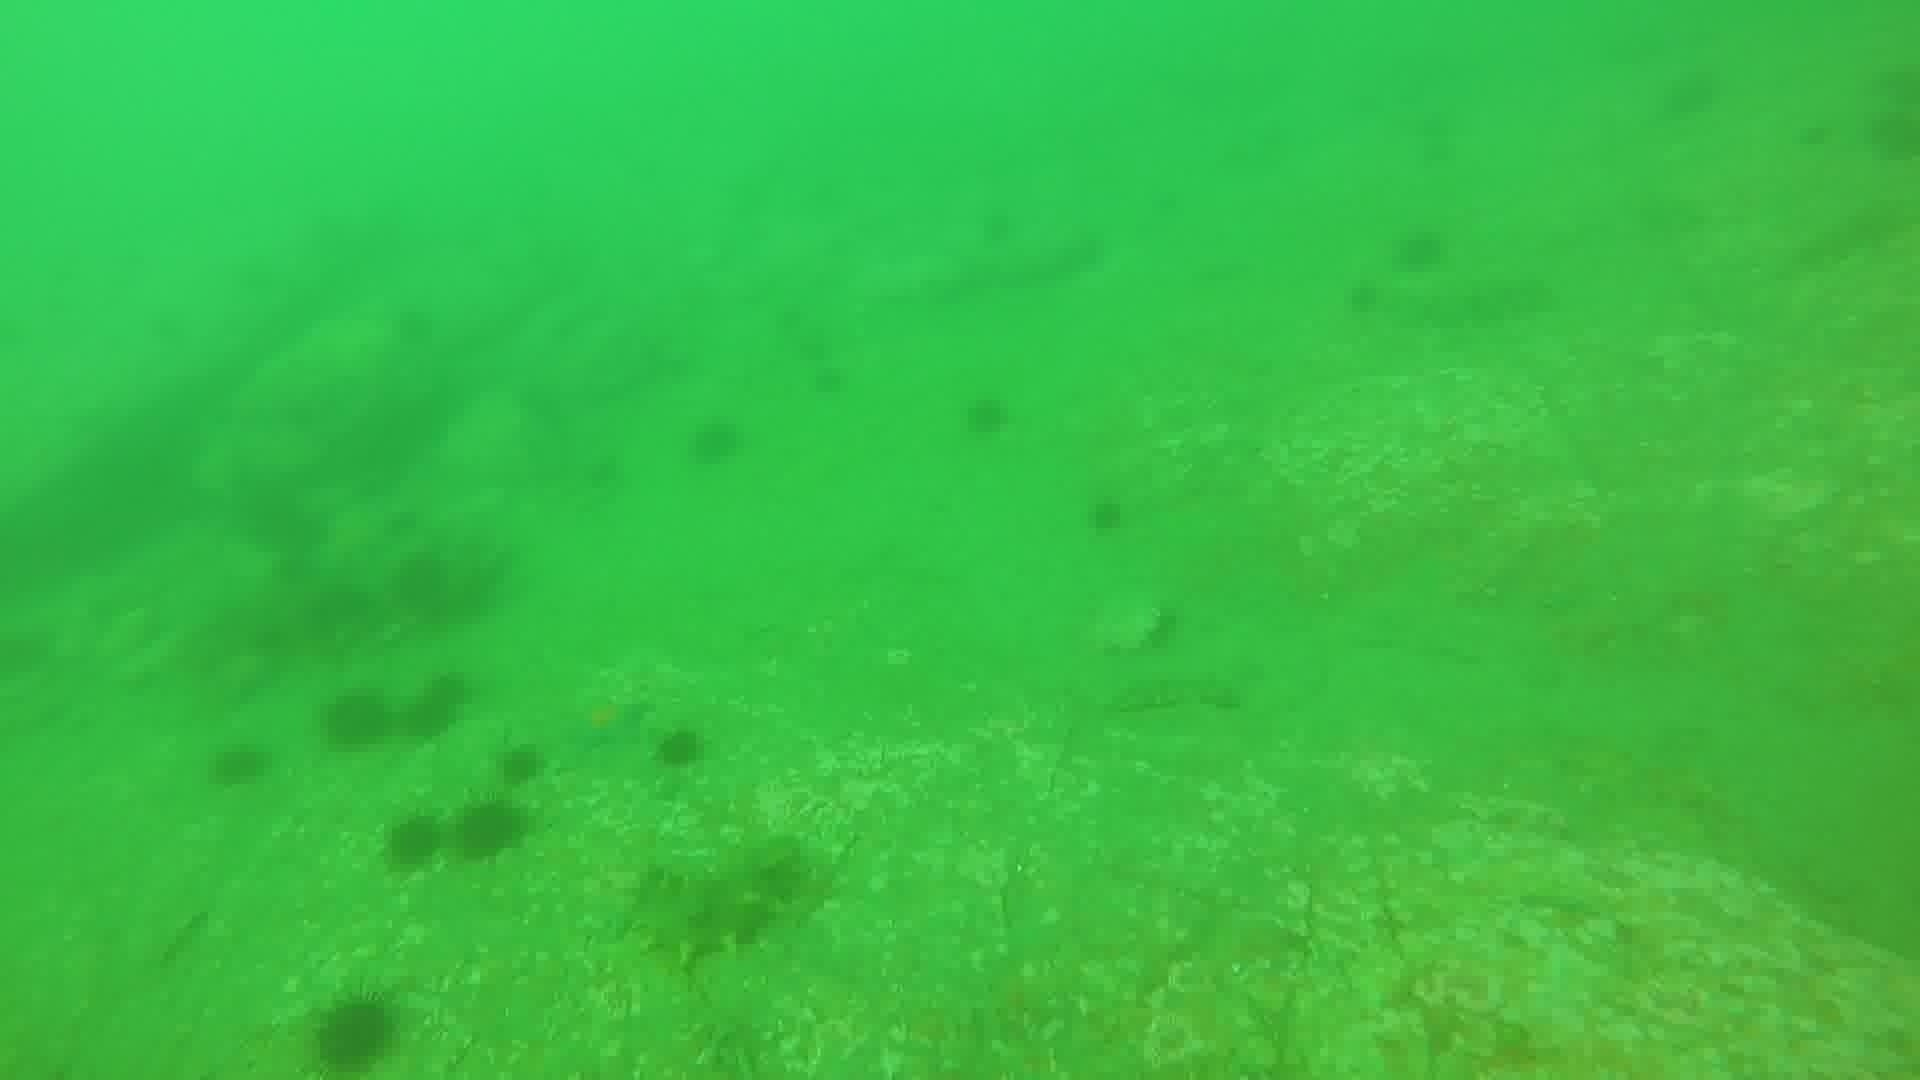echinus: (309, 990, 404, 1071), (316, 684, 396, 756), (447, 789, 526, 858), (378, 808, 447, 877), (1654, 62, 1726, 124), (392, 553, 460, 613), (204, 736, 276, 793), (305, 574, 372, 633), (683, 413, 748, 471), (1389, 223, 1452, 277), (650, 721, 709, 774), (957, 390, 1015, 442), (492, 738, 549, 790), (430, 669, 483, 713), (400, 699, 451, 744), (1083, 491, 1130, 538), (806, 360, 852, 401), (1342, 276, 1383, 319)
holothurian: (625, 832, 810, 968)
starfish: (558, 683, 651, 756)
